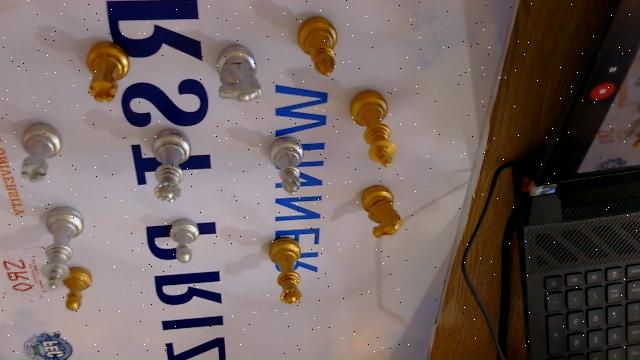black_bishop: (295, 14, 337, 75)
black_king: (350, 91, 395, 167)
black_knight: (361, 185, 403, 238)
black_pawn: (69, 268, 92, 312)
black_queen: (267, 237, 303, 305)
black_rook: (84, 41, 130, 103)
white_bishop: (268, 135, 303, 196)
white_king: (42, 206, 82, 292)
white_knight: (215, 44, 263, 103)
white_pawn: (168, 218, 199, 264)
white_queen: (148, 130, 192, 203)
white_rook: (18, 122, 61, 183)
